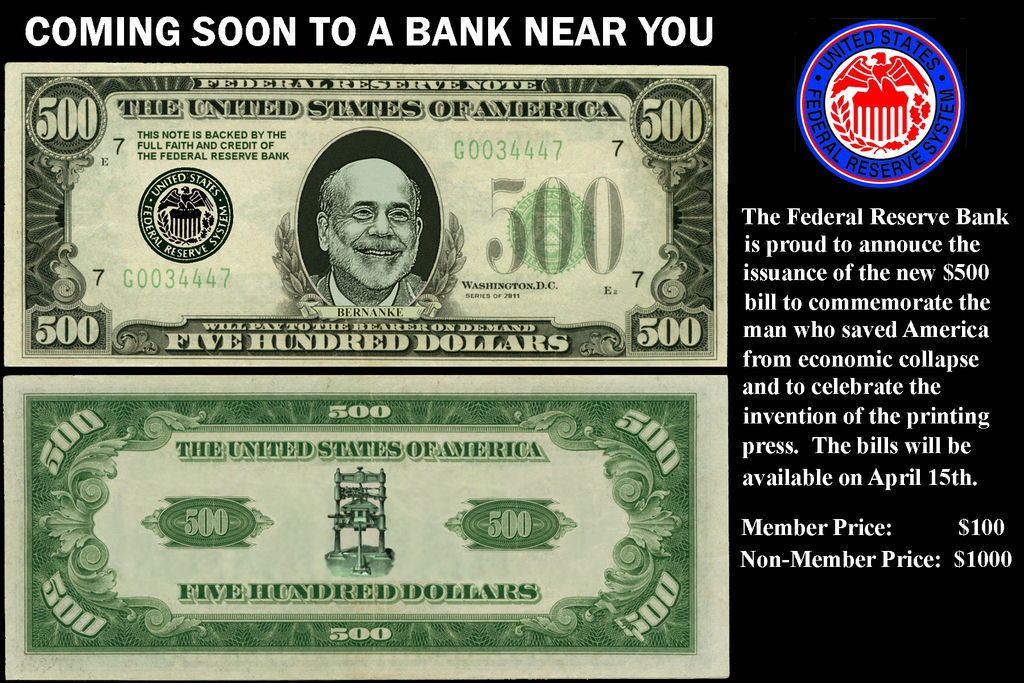Person: (310, 157, 426, 306)
